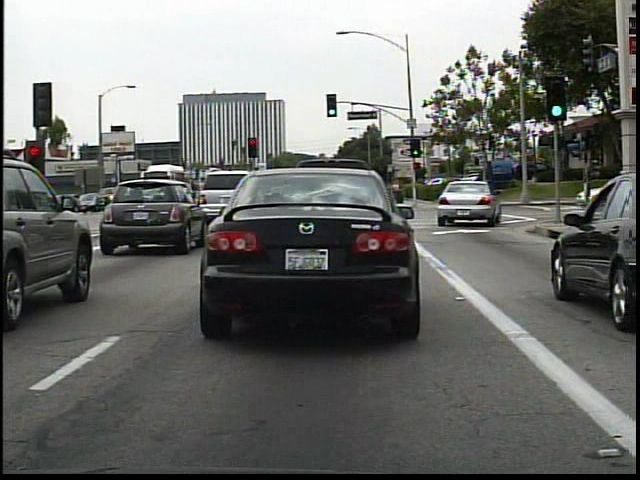person: (386, 175, 406, 209)
